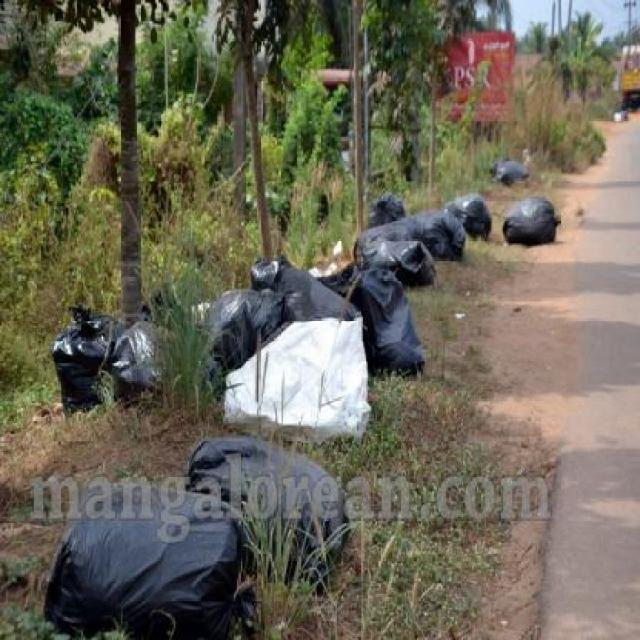garbage: (56, 300, 382, 436), (196, 406, 343, 584), (54, 531, 277, 638), (268, 251, 429, 382), (489, 120, 574, 253), (363, 186, 469, 289)
